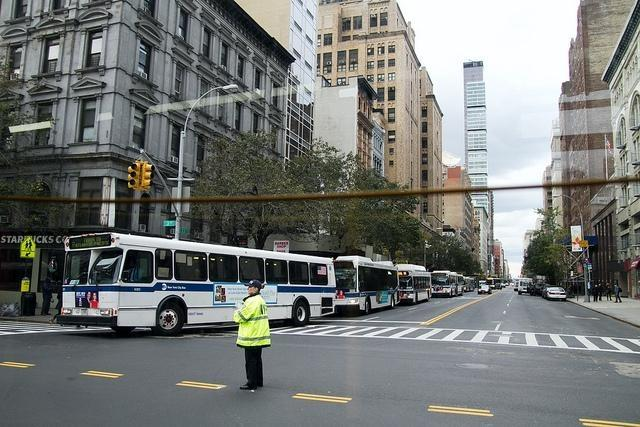bus: (57, 227, 337, 337), (335, 255, 400, 315), (394, 264, 433, 306), (428, 270, 464, 298), (463, 276, 475, 292), (486, 278, 502, 289)
car: (542, 286, 568, 300), (533, 284, 545, 296), (478, 286, 493, 294), (512, 281, 518, 291), (502, 282, 506, 288), (505, 283, 509, 286)
